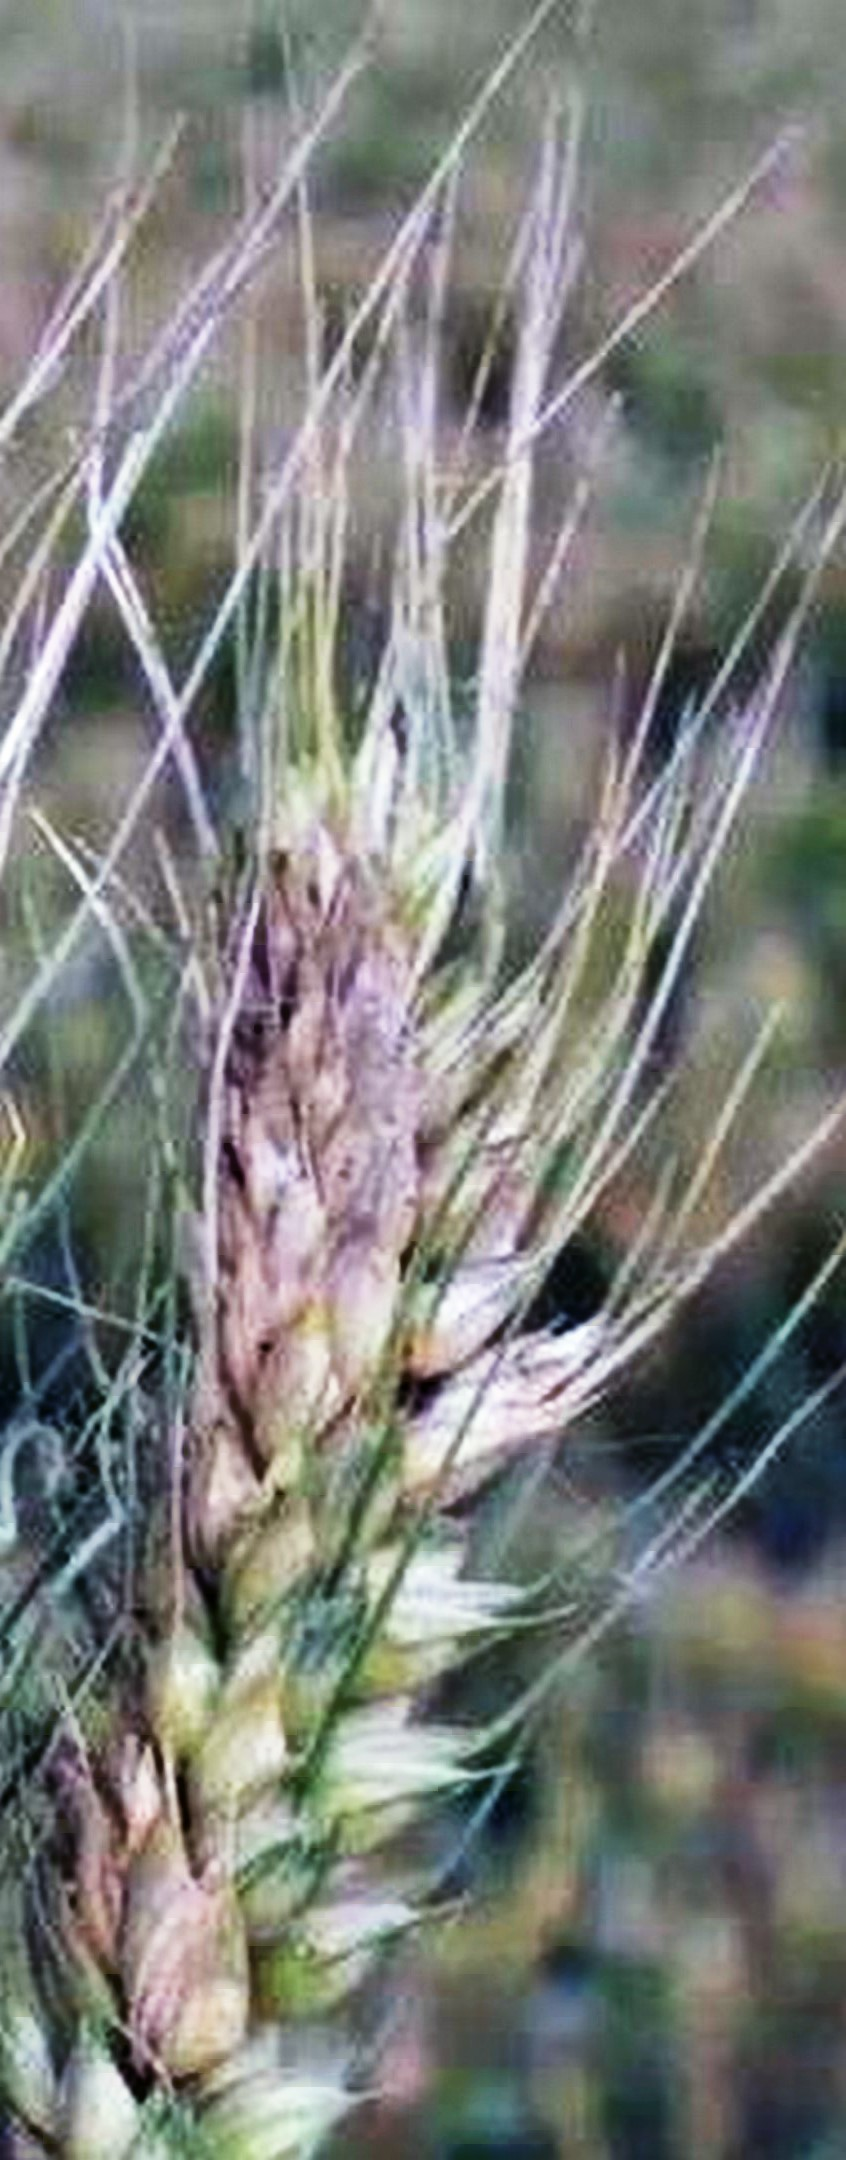Wheat scab: (87, 709, 675, 2094)
